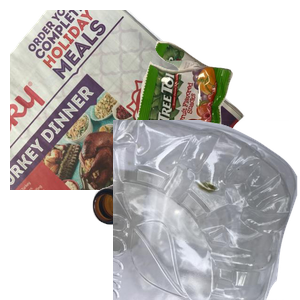glass: (90, 148, 300, 300)
paper: (10, 10, 247, 190)
plastic: (113, 120, 300, 300)
trash: (131, 38, 300, 182)
